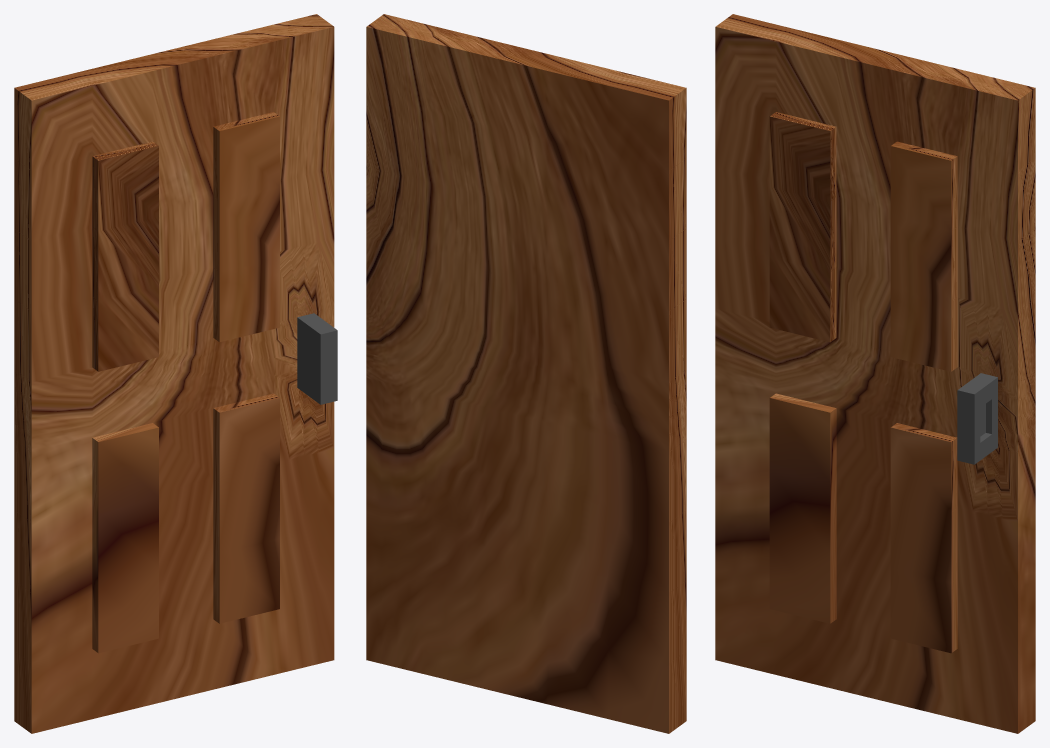
File: Puerta_38.fbx
The picture shows the model from 3 angles, left to right: view 1: azimuth 30°, elevation 25°; view 2: azimuth 150°, elevation 25°; view 3: azimuth 330°, elevation 25°; orthographic projection.
Parts seen in each view (by area): view 1: Cube.038; view 2: Cube.038; view 3: Cube.038.
Part boxes in pixels (x1,y1,x2,y2): Cube.038: (14, 14, 337, 733); Cube.038: (366, 14, 686, 733); Cube.038: (715, 14, 1035, 733).
Bounding box in the file's own units: 200 × 400 × 46.87.
